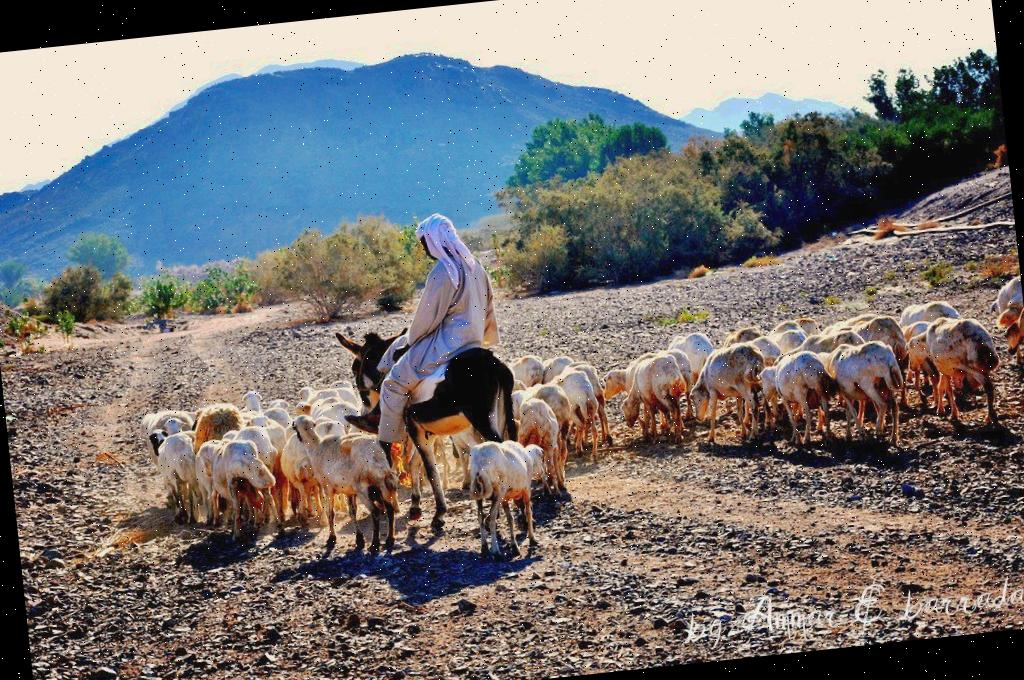Sheep: (290, 404, 408, 560), (901, 310, 1007, 432), (824, 333, 914, 450), (599, 347, 695, 449), (202, 426, 282, 544), (468, 441, 550, 553), (766, 347, 842, 450), (687, 345, 765, 437), (274, 417, 329, 532), (546, 362, 606, 466), (152, 426, 208, 527), (513, 383, 575, 474), (846, 312, 912, 376), (665, 330, 719, 398), (393, 430, 443, 502), (136, 406, 198, 463), (188, 400, 248, 455), (509, 349, 570, 388), (312, 415, 345, 441)
